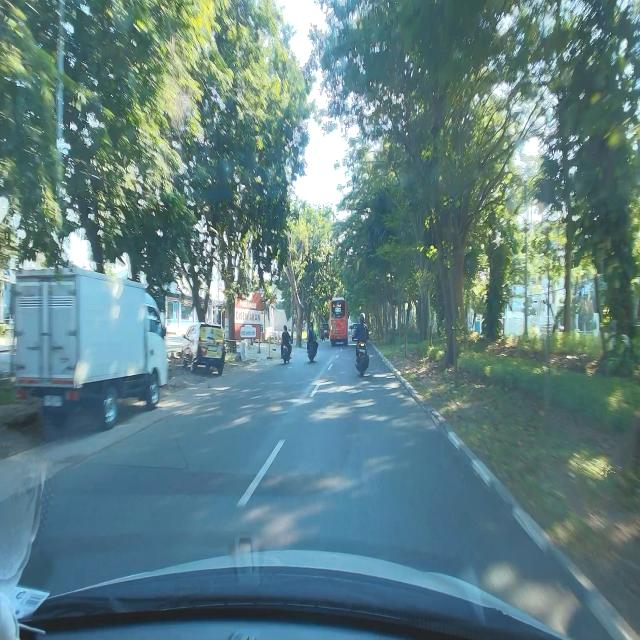bus: (328, 297, 348, 346)
truck: (14, 264, 172, 432)
